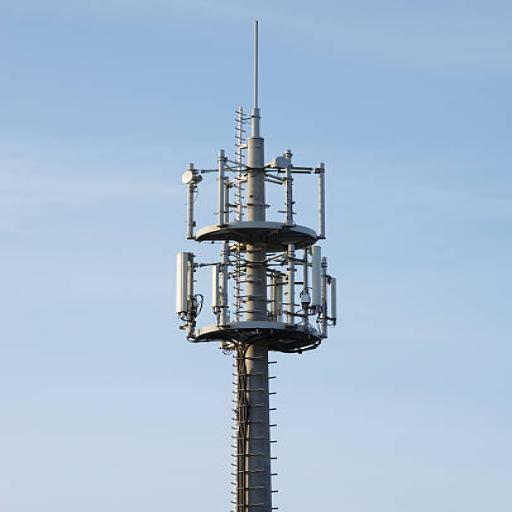monopole_tower: (176, 22, 338, 512)
